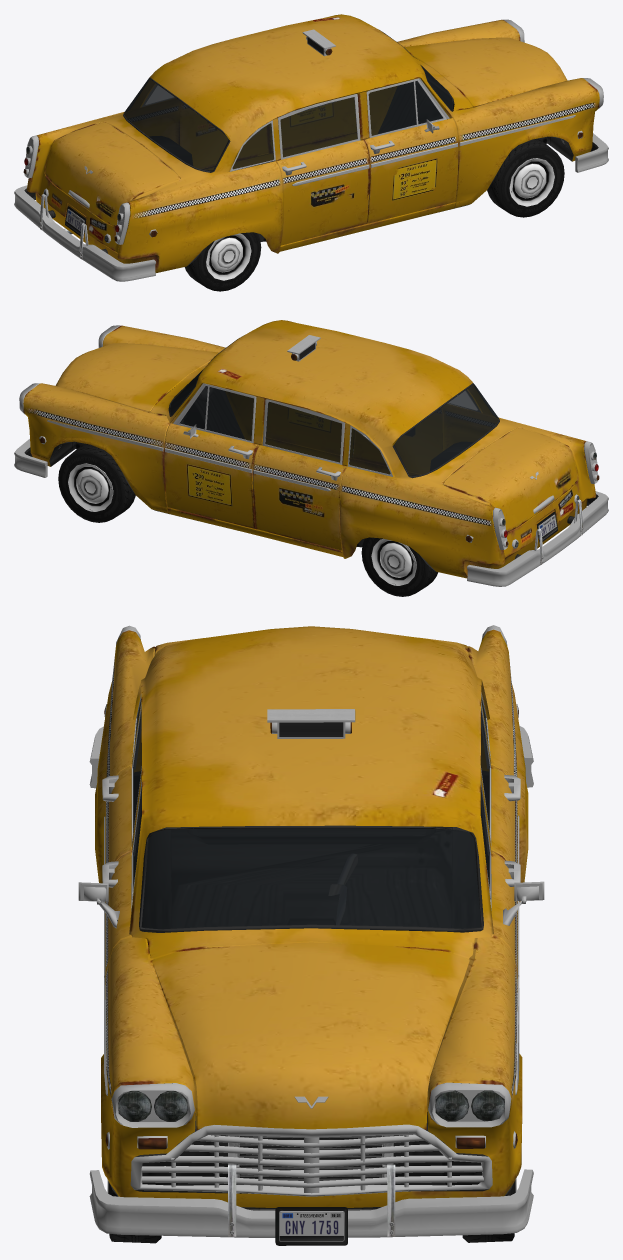
The model's file is taxi_lod.gltf.
3 renders of one model, top to bottom at view 1: azimuth 30°, elevation 25°; view 2: azimuth 150°, elevation 25°; view 3: azimuth 270°, elevation 25°, orthographic. The views are drawn at different scales.
Parts seen in each view (by area): view 1: Canyon75_Body_Canyon75_Bodymat_0, Canyon75_Bottom_UCB_BOTTOM_0, Canyon75_Trunk_door_Canyon75_Bodymat_0, Canyon75_Hood_Canyon75_Bodymat_0, Canyon75_Rear_windows_UCB_Lights_and_Glass_Transperent_0, Canyon75_WheelStock_FR_RB1c_Tire_1k_0, Canyon75_Bodyglass_UCB_Lights_and_Glass_Transperent_0, Canyon75_Bumper_rear_UCB_BOTTOM_0, Canyon75_WheelStock_RR_RB1c_Tire_1k_0, Canyon75_Glass_Passenger_UCB_Lights_and_Glass_Transperent_0, Canyon75_Bumper_front_UCB_BOTTOM_0, Canyon75_Taxi_Beacon_UCB_BOTTOM_0; view 2: Canyon75_Body_Canyon75_Bodymat_0, Canyon75_Bottom_UCB_BOTTOM_0, Canyon75_Trunk_door_Canyon75_Bodymat_0, Canyon75_Hood_Canyon75_Bodymat_0, Canyon75_Rear_windows_UCB_Lights_and_Glass_Transperent_0, Canyon75_WheelStock_FL_RB1c_Tire_1k_0, Canyon75_Bodyglass_UCB_Lights_and_Glass_Transperent_0, Canyon75_Bumper_rear_UCB_BOTTOM_0, Canyon75_WheelStock_RL_RB1c_Tire_1k_0, Canyon75_Glass_Driver_UCB_Lights_and_Glass_Transperent_0, Canyon75_Bumper_front_UCB_BOTTOM_0, Canyon75_Taxi_Beacon_UCB_BOTTOM_0; view 3: Canyon75_Body_Canyon75_Bodymat_0, Canyon75_Bottom_UCB_BOTTOM_0, Canyon75_Hood_Canyon75_Bodymat_0, Canyon75_Windshield_UCB_Lights_and_Glass_Transperent_0, Canyon75_Bumper_front_UCB_BOTTOM_0, Canyon75_Headlights_UCB_Lights_and_Glass_0, Canyon75_Taxi_Beacon_UCB_BOTTOM_0, Canyon75_Numberplate_Front_Numberplates_Misk_U_0, Canyon75_Bodyglass_UCB_Lights_and_Glass_Transperent_0, Canyon75_Bumper_rear_UCB_BOTTOM_0.
Part boxes in pixels (x1=…): Canyon75_Body_Canyon75_Bodymat_0: x1=26, y1=14, x2=599, y2=272; Canyon75_Bottom_UCB_BOTTOM_0: x1=23, y1=19, x2=603, y2=265; Canyon75_Trunk_door_Canyon75_Bodymat_0: x1=45, y1=122, x2=179, y2=226; Canyon75_Hood_Canyon75_Bodymat_0: x1=404, y1=37, x2=567, y2=106; Canyon75_Rear_windows_UCB_Lights_and_Glass_Transperent_0: x1=124, y1=78, x2=273, y2=171; Canyon75_WheelStock_FR_RB1c_Tire_1k_0: x1=487, y1=138, x2=564, y2=217; Canyon75_Bodyglass_UCB_Lights_and_Glass_Transperent_0: x1=280, y1=81, x2=443, y2=157; Canyon75_Bumper_rear_UCB_BOTTOM_0: x1=14, y1=185, x2=155, y2=281; Canyon75_WheelStock_RR_RB1c_Tire_1k_0: x1=184, y1=232, x2=261, y2=291; Canyon75_Glass_Passenger_UCB_Lights_and_Glass_Transperent_0: x1=368, y1=81, x2=416, y2=135; Canyon75_Bumper_front_UCB_BOTTOM_0: x1=575, y1=133, x2=608, y2=172; Canyon75_Taxi_Beacon_UCB_BOTTOM_0: x1=302, y1=29, x2=335, y2=56; Canyon75_Body_Canyon75_Bodymat_0: x1=23, y1=320, x2=596, y2=578; Canyon75_Bottom_UCB_BOTTOM_0: x1=19, y1=325, x2=599, y2=571; Canyon75_Trunk_door_Canyon75_Bodymat_0: x1=443, y1=428, x2=577, y2=531; Canyon75_Hood_Canyon75_Bodymat_0: x1=55, y1=343, x2=218, y2=411; Canyon75_Rear_windows_UCB_Lights_and_Glass_Transperent_0: x1=349, y1=384, x2=498, y2=476; Canyon75_WheelStock_FL_RB1c_Tire_1k_0: x1=58, y1=444, x2=135, y2=522; Canyon75_Bodyglass_UCB_Lights_and_Glass_Transperent_0: x1=179, y1=386, x2=341, y2=462; Canyon75_Bumper_rear_UCB_BOTTOM_0: x1=467, y1=491, x2=608, y2=586; Canyon75_WheelStock_RL_RB1c_Tire_1k_0: x1=361, y1=537, x2=437, y2=596; Canyon75_Glass_Driver_UCB_Lights_and_Glass_Transperent_0: x1=206, y1=387, x2=253, y2=440; Canyon75_Bumper_front_UCB_BOTTOM_0: x1=14, y1=439, x2=47, y2=477; Canyon75_Taxi_Beacon_UCB_BOTTOM_0: x1=287, y1=335, x2=320, y2=361; Canyon75_Body_Canyon75_Bodymat_0: x1=95, y1=626, x2=528, y2=1207; Canyon75_Bottom_UCB_BOTTOM_0: x1=78, y1=625, x2=544, y2=1210; Canyon75_Hood_Canyon75_Bodymat_0: x1=151, y1=942, x2=469, y2=1129; Canyon75_Windshield_UCB_Lights_and_Glass_Transperent_0: x1=141, y1=828, x2=481, y2=929; Canyon75_Bumper_front_UCB_BOTTOM_0: x1=89, y1=1164, x2=533, y2=1245; Canyon75_Headlights_UCB_Lights_and_Glass_0: x1=118, y1=1090, x2=504, y2=1121; Canyon75_Taxi_Beacon_UCB_BOTTOM_0: x1=267, y1=709, x2=355, y2=738; Canyon75_Numberplate_Front_Numberplates_Misk_U_0: x1=279, y1=1211, x2=344, y2=1241; Canyon75_Bodyglass_UCB_Lights_and_Glass_Transperent_0: x1=133, y1=708, x2=490, y2=898; Canyon75_Bumper_rear_UCB_BOTTOM_0: x1=89, y1=726, x2=533, y2=788.
Bounding box in the file's own units: 5.31 × 1.83 × 2.12.
Materials: 6 (6 with a texture image).
